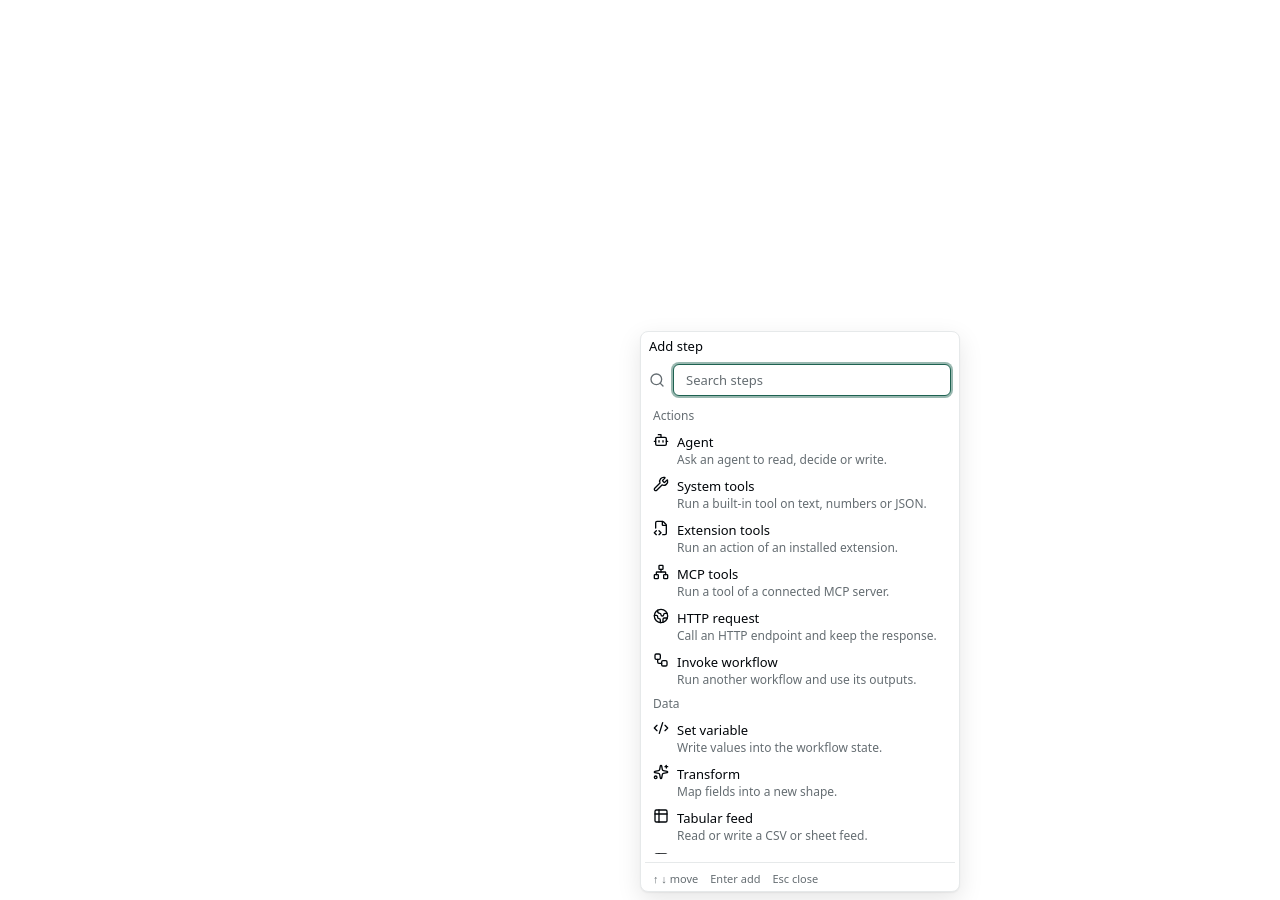
Test: does not turn search into individual-agent or child-tool discovery
Type "Unit writer" into the dropdown labelled "Search steps". click: (812, 380)
box: [673,364,951,396]
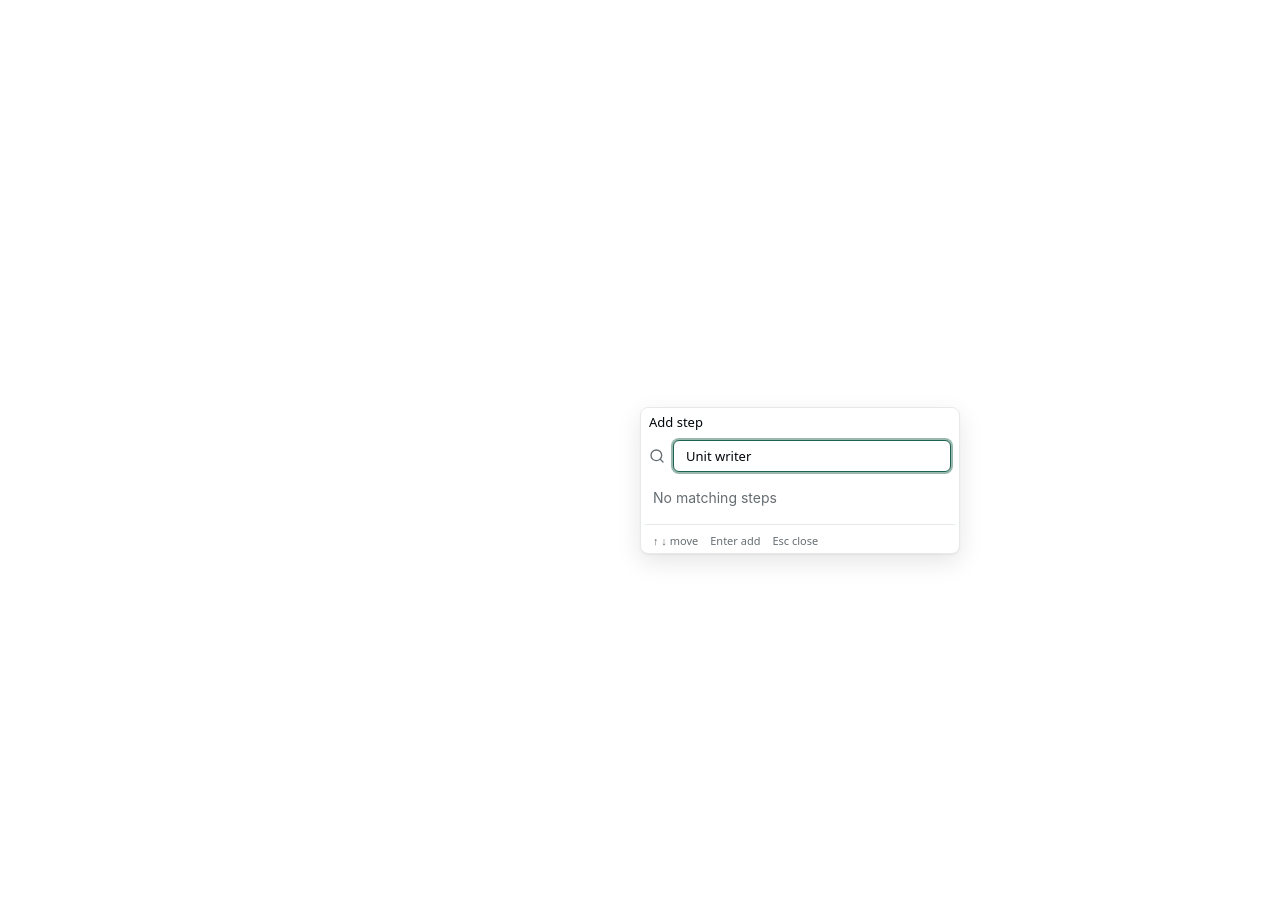
Result: the message reads "No matching steps" at [653,489,777,506]
